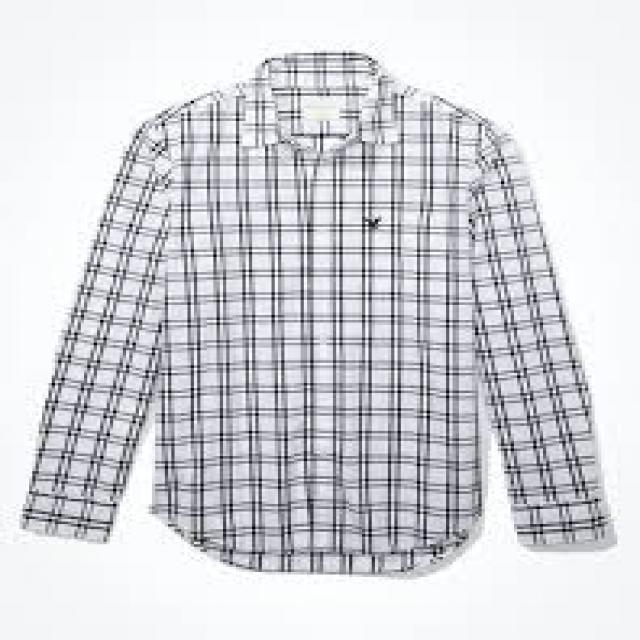plaid: (64, 48, 596, 596)
